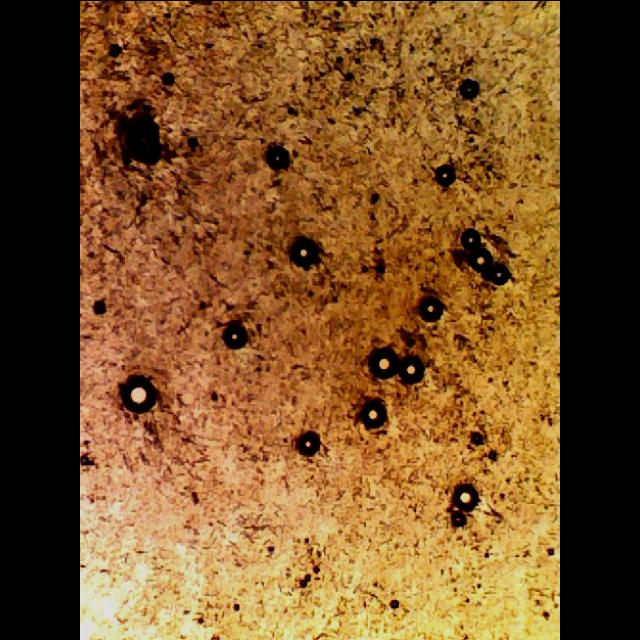microbeads: (118, 112, 166, 166), (118, 370, 158, 414), (284, 234, 320, 270), (357, 396, 391, 434), (288, 426, 322, 462), (219, 321, 253, 354), (394, 354, 430, 384), (262, 141, 294, 173), (368, 345, 398, 379), (450, 480, 480, 512), (418, 296, 446, 322), (456, 77, 482, 105), (467, 246, 495, 270), (487, 262, 511, 288), (458, 225, 482, 251), (435, 165, 457, 185)
